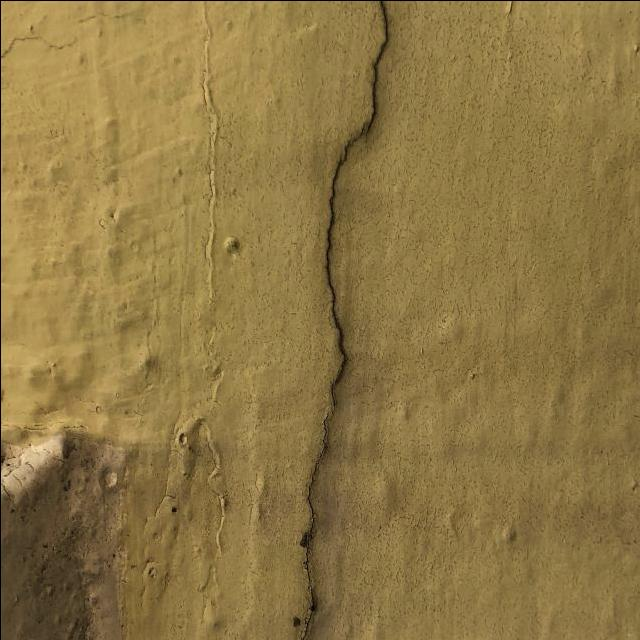SurfaceCrack: (252, 0, 416, 640)
